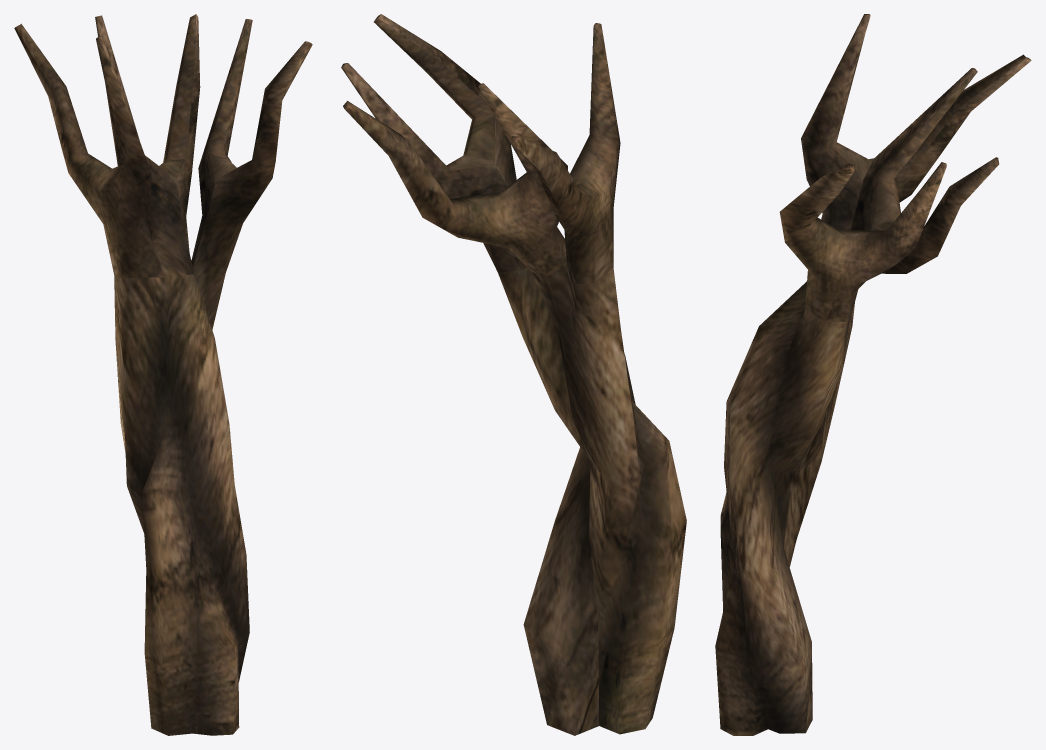
File: plant_dracaena02_withered_tree.dae
The picture shows the model from 3 angles, left to right: view 1: azimuth 30°, elevation 25°; view 2: azimuth 150°, elevation 25°; view 3: azimuth 270°, elevation 25°; orthographic projection. The views are drawn at different scales.
Visible parts, largest first — view 1: plant_dracaena02_plant_dracaena02; view 2: plant_dracaena02_plant_dracaena02; view 3: plant_dracaena02_plant_dracaena02.
Part boxes in pixels (x1,y1,x2,y2): plant_dracaena02_plant_dracaena02: (14, 14, 312, 735); plant_dracaena02_plant_dracaena02: (341, 14, 686, 735); plant_dracaena02_plant_dracaena02: (715, 14, 1031, 735).
Bounding box in the file's own units: 0.0951 × 0.2818 × 0.1181.
